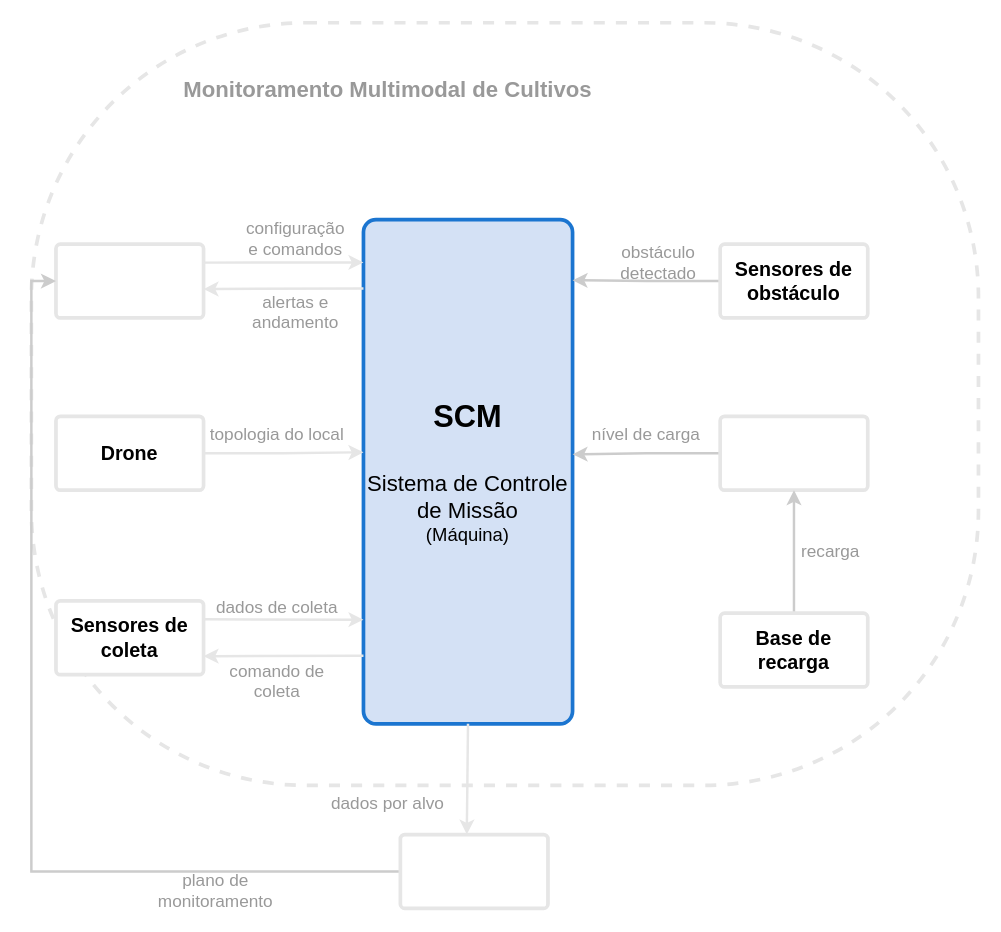
The diagram is 1001 pixels wide and 932 high, and some of its shapes have lost their labels. Here are the shapes that lost their labels. From the top down, the centre of each, then its label:
(129,280): Controlador da missão
(793,452): Bateria
(473,871): Agrônomo
